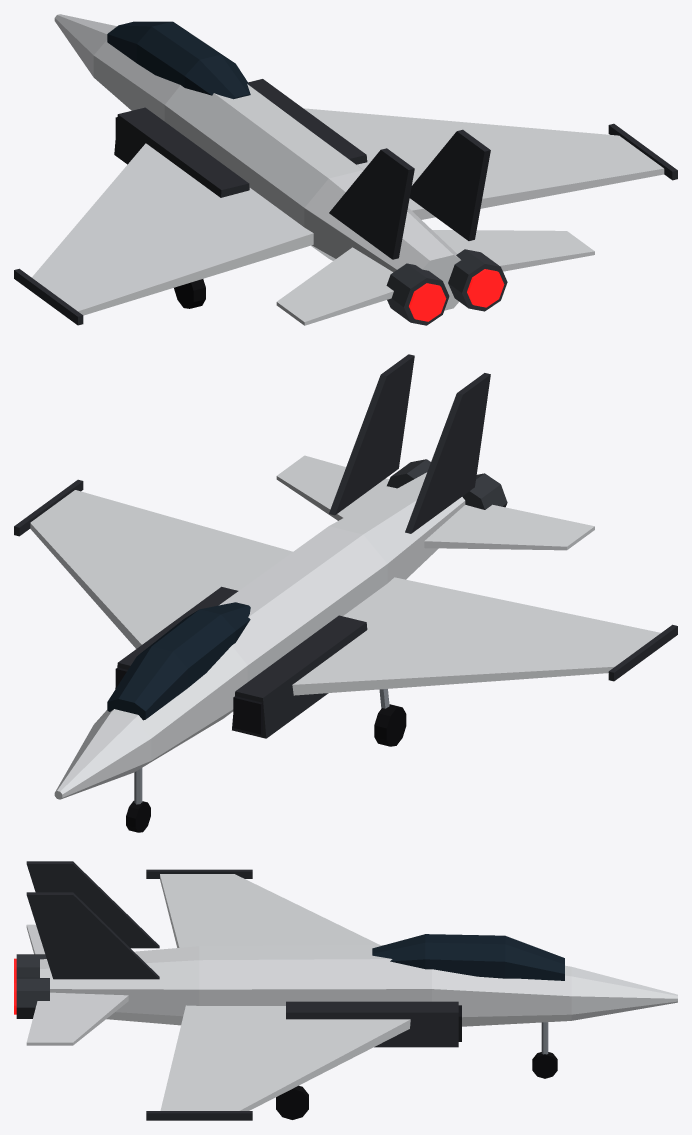
Rendered from plane_jet.glb.
3 renders of one model, top to bottom at view 1: azimuth 30°, elevation 25°; view 2: azimuth 150°, elevation 25°; view 3: azimuth 270°, elevation 25°, orthographic. The views are drawn at different scales.
Visible parts, largest first — view 1: plane_jet__body; view 2: plane_jet__body; view 3: plane_jet__body.
Boxes of the visible parts, left/top/right/bottom form: plane_jet__body: left=14, top=14, right=677, bottom=325; plane_jet__body: left=14, top=354, right=677, bottom=832; plane_jet__body: left=14, top=861, right=677, bottom=1120.
Bounding box in the file's own units: 8.68 × 3.3 × 9.99.
